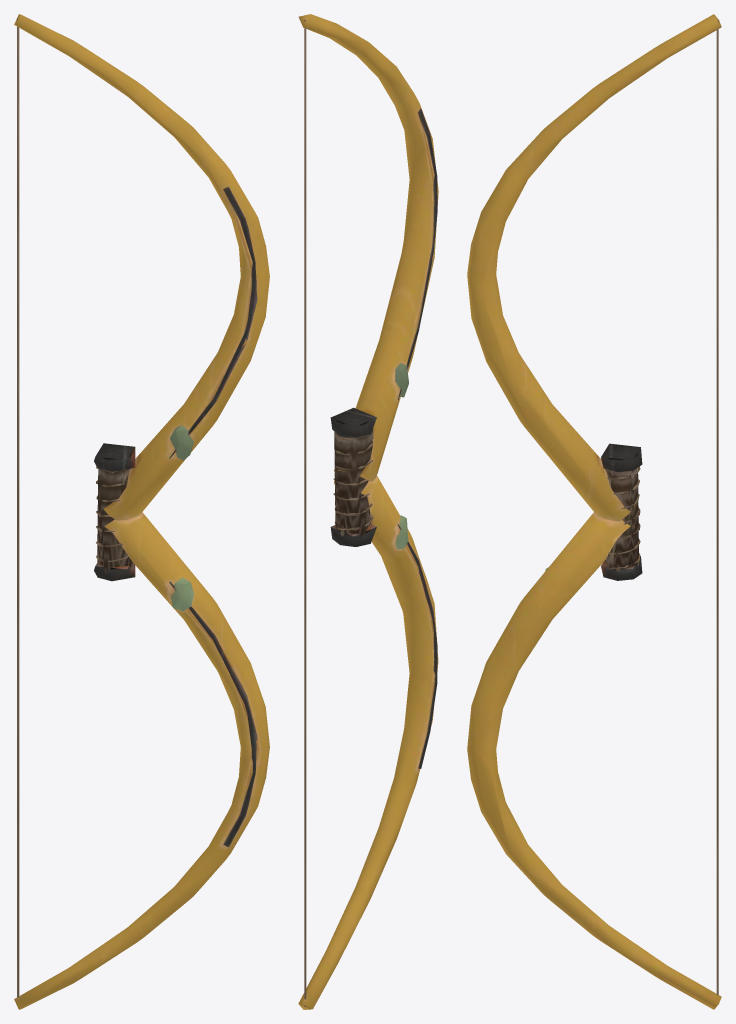
Rendered from eq_bow_4_lod1.glb.
The picture shows the model from 3 angles, left to right: view 1: azimuth 90°, elevation 25°; view 2: azimuth 150°, elevation 25°; view 3: azimuth 270°, elevation 25°; orthographic projection.
Parts seen in each view (by area): view 1: eq_bow_4_lod1; view 2: eq_bow_4_lod1; view 3: eq_bow_4_lod1.
Part boxes in pixels (left/top/right/bottom): eq_bow_4_lod1: left=14, top=14, right=269, bottom=1009; eq_bow_4_lod1: left=298, top=14, right=438, bottom=1009; eq_bow_4_lod1: left=467, top=14, right=721, bottom=1009.
Bounding box in the file's own units: 0.0686 × 1.7 × 0.395.
1 material, 1 textured.
